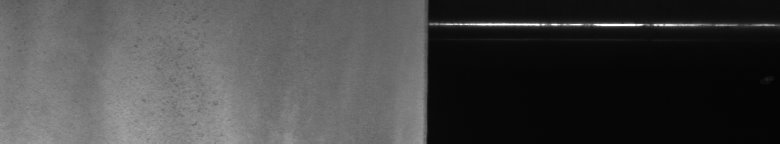ib: (134, 15, 218, 126)
